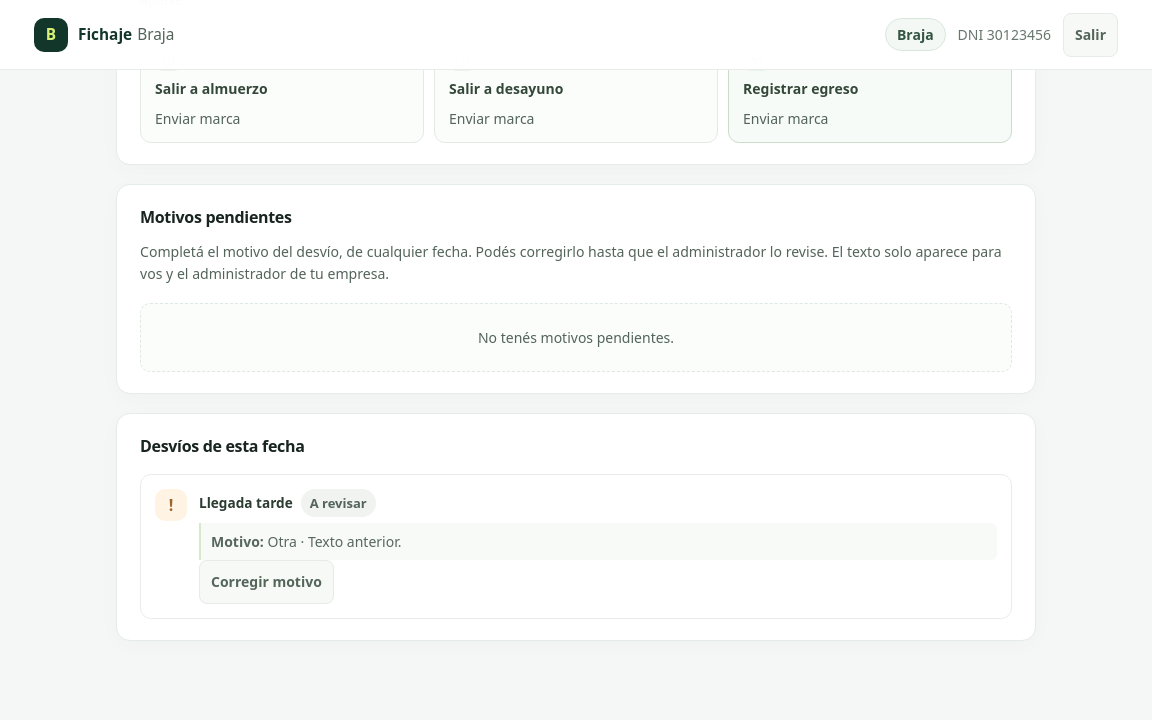
Test: EmployeeApp › permite corregir el motivo mientras el desvío no está clasificado
The width and height of the screenshot is (1152, 720).
(page scrolled)
Click the button "Corregir motivo" at (266, 582), box [199, 560, 334, 604]
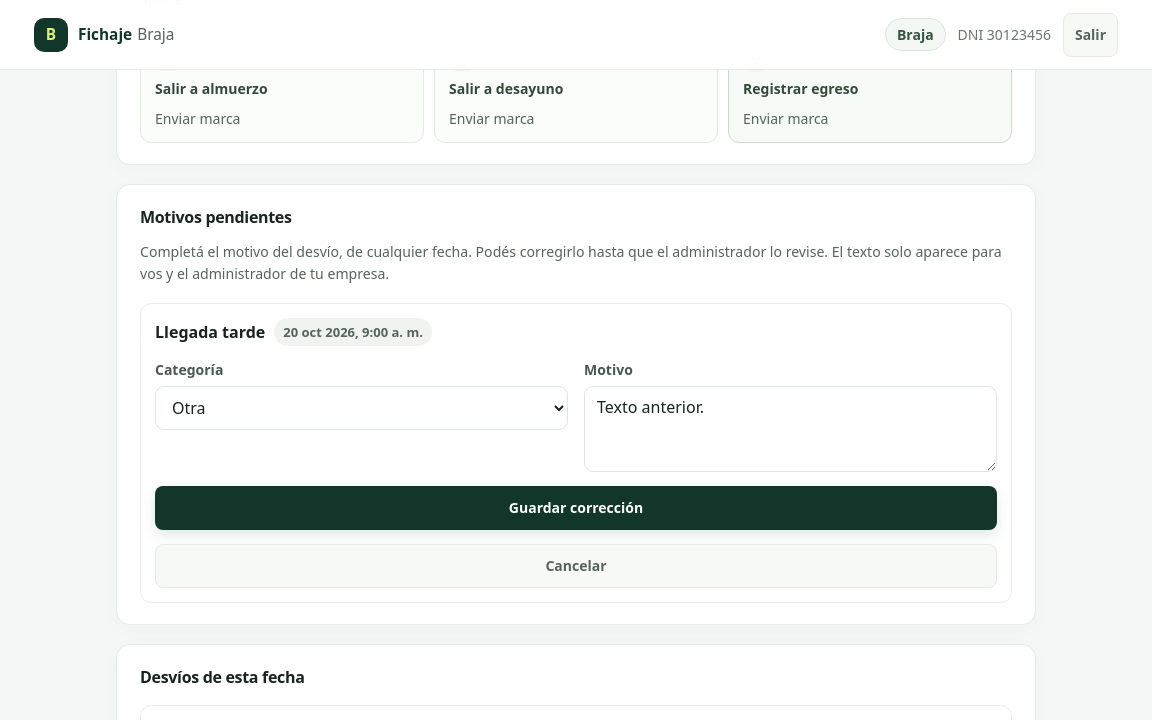
Expected: the text box labelled "Motivo" holds "Texto anterior.", [584, 386, 997, 472]
Select "Transporte" in the dropdown labelled "Categoría" at (362, 408), box [155, 386, 568, 430]
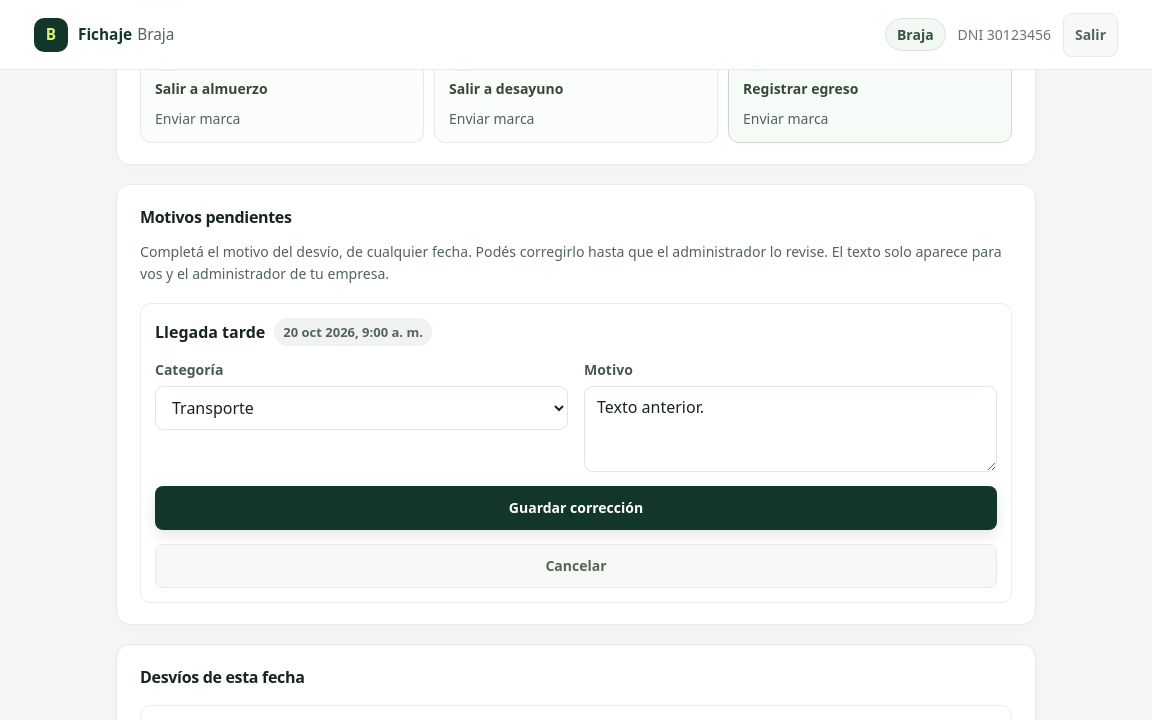
Replace the text in the text box labelled "Motivo" with "Paro de colectivos." at (790, 428), box [584, 386, 997, 472]
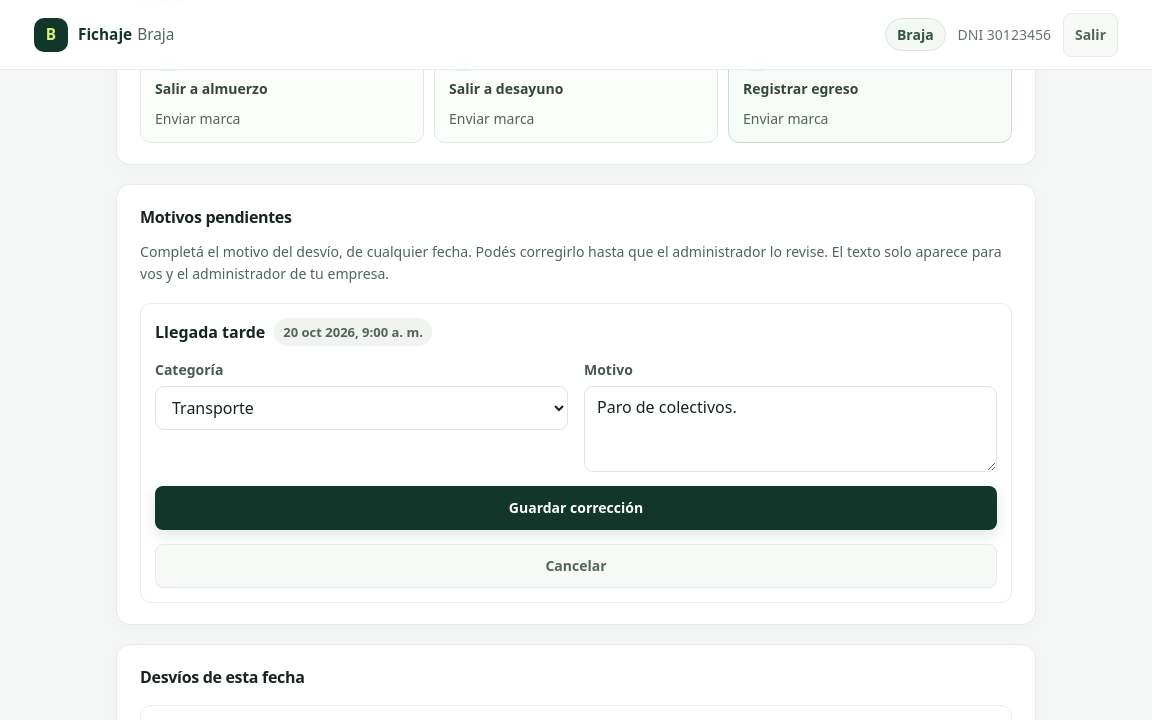
Click the button "Guardar corrección" at (576, 508), box [155, 486, 997, 530]
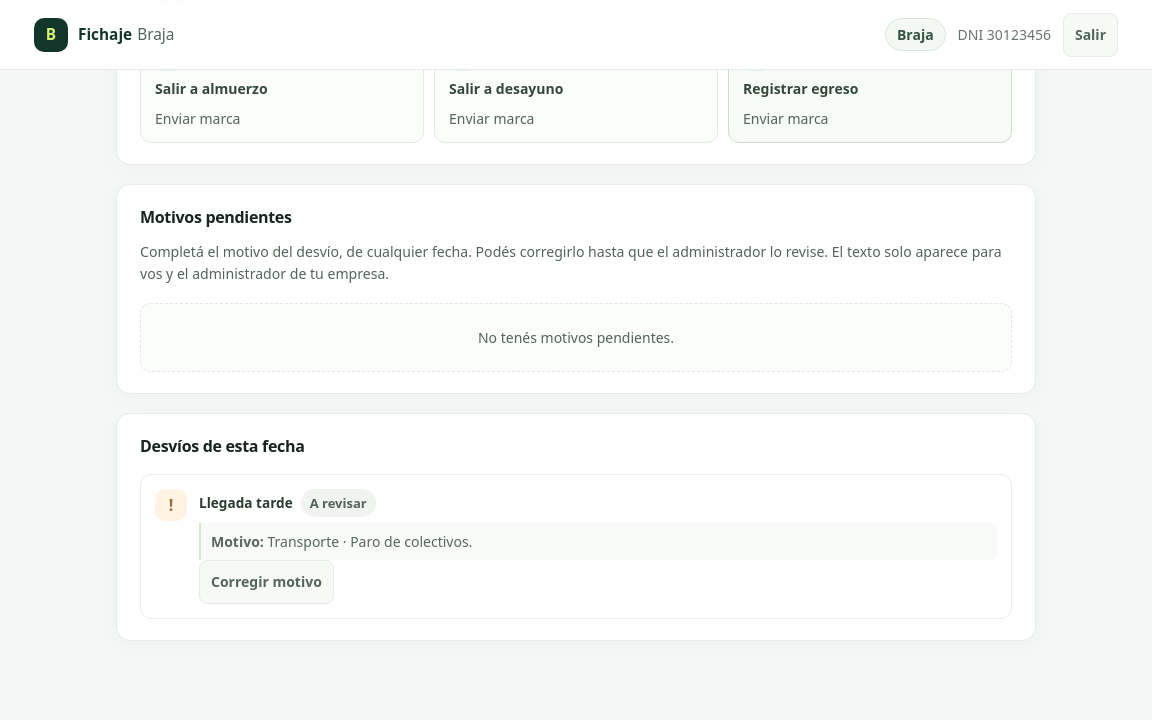
Expected: the text "Motivo: Transporte · Paro de colectivos." is shown, [199, 522, 997, 560]
